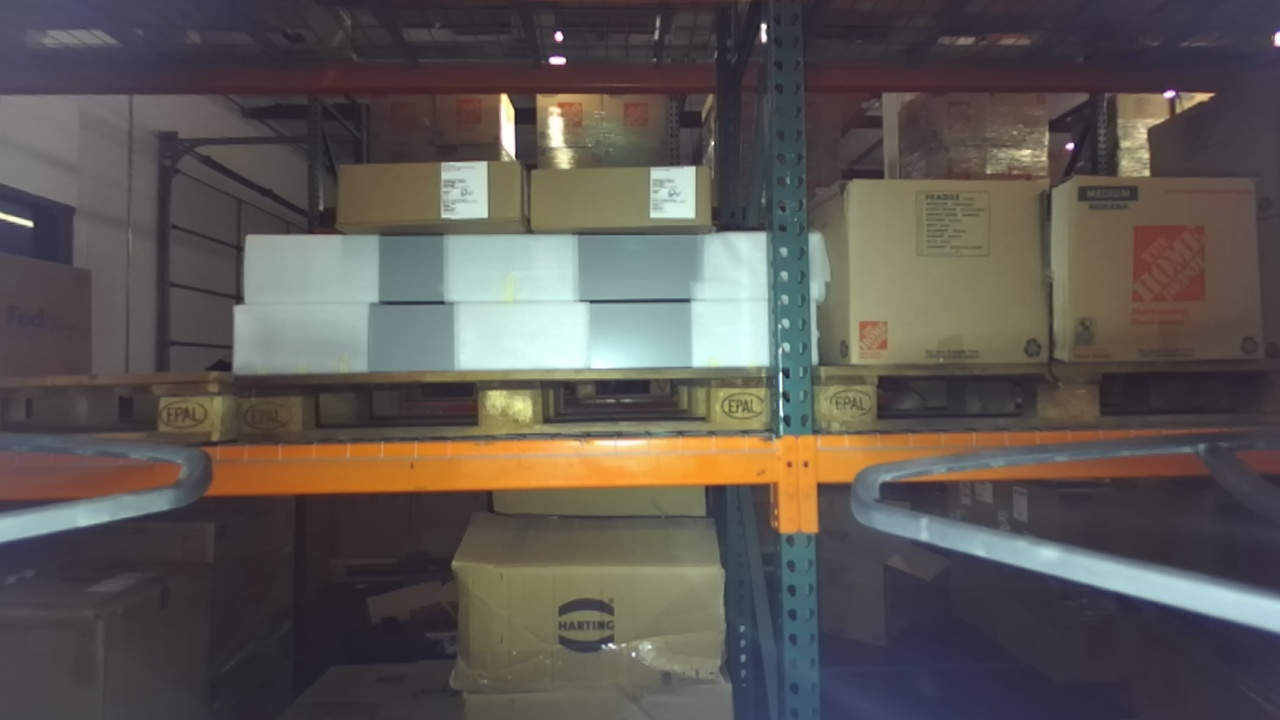box: (811, 155, 1080, 392), (412, 502, 755, 673), (1045, 146, 1279, 396), (525, 150, 720, 253), (330, 157, 544, 245)
